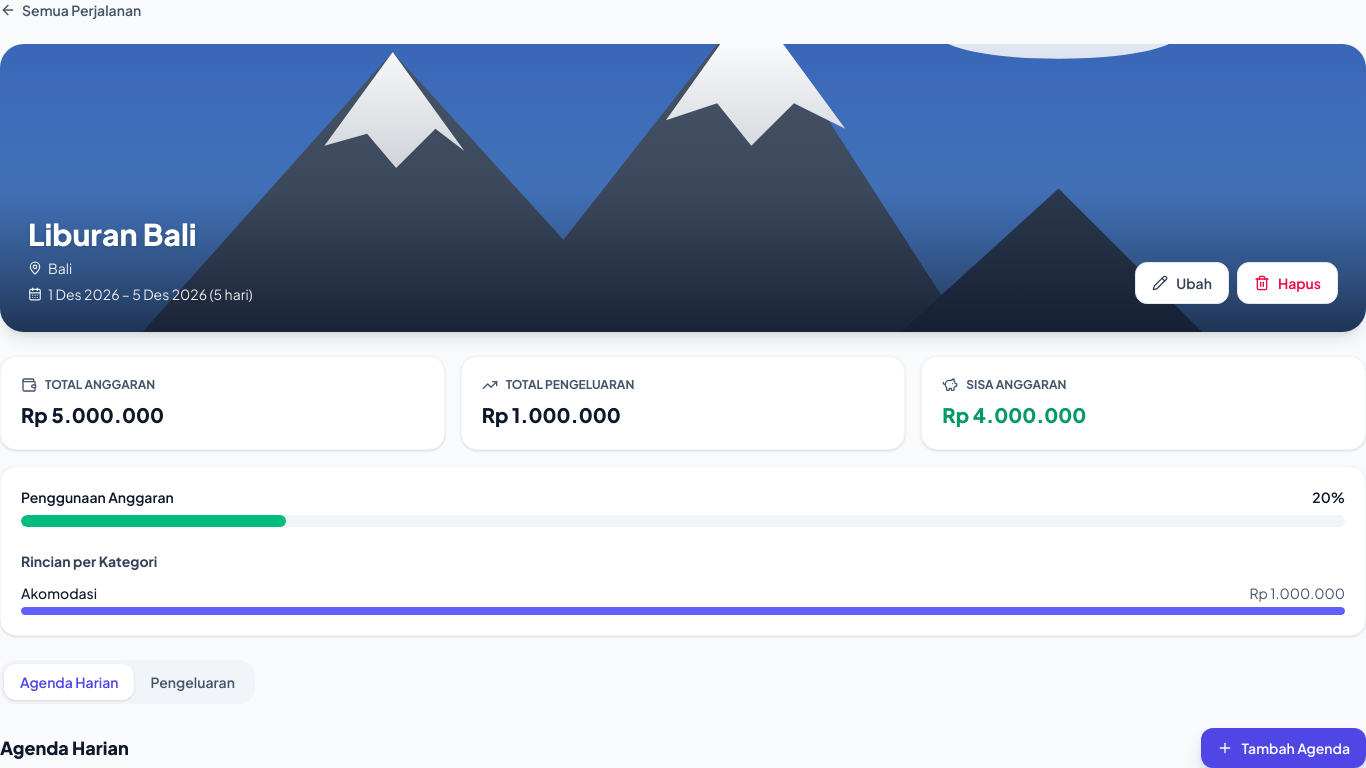
Scenario: DetailPage › agenda › membuka modal tambah agenda lalu menutupnya setelah tersimpan
This screenshot has width=1366, height=768.
Click the button "Tambah Agenda": x=1284, y=748 [1202,728,1365,767]
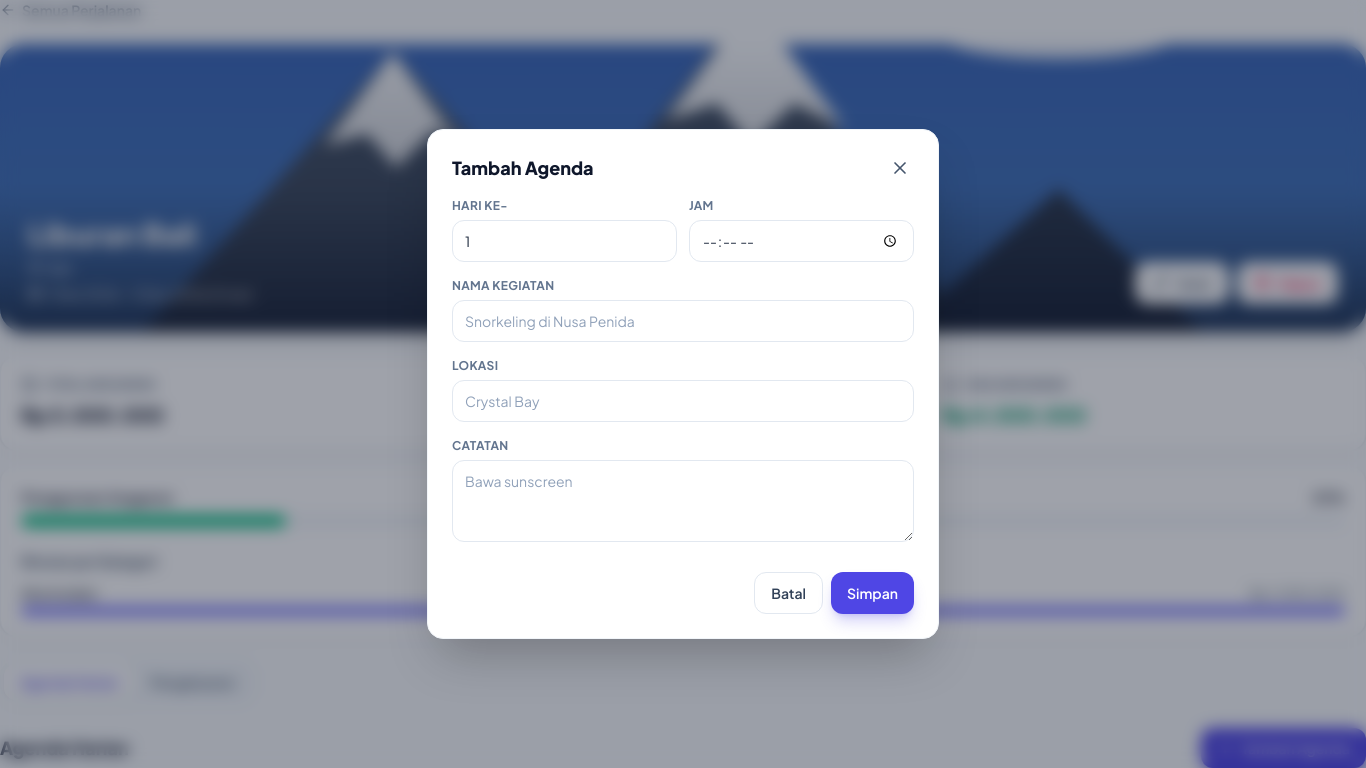
Now the element with test id "itinerary-modal" is shown
